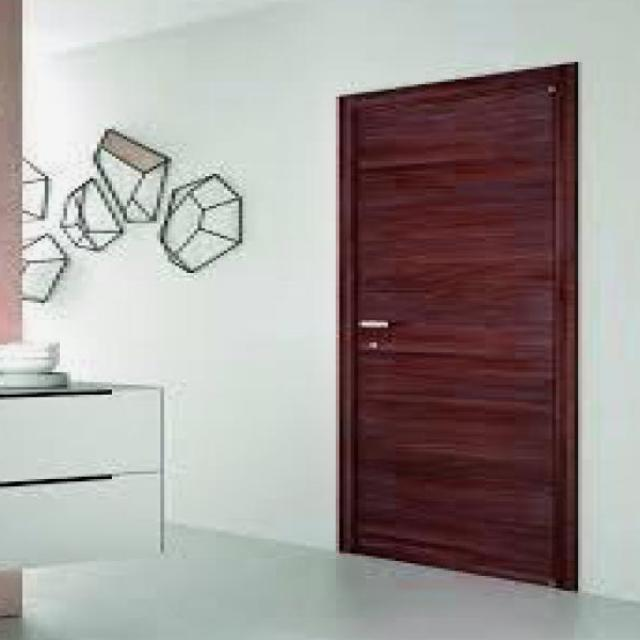door: (336, 61, 578, 590)
